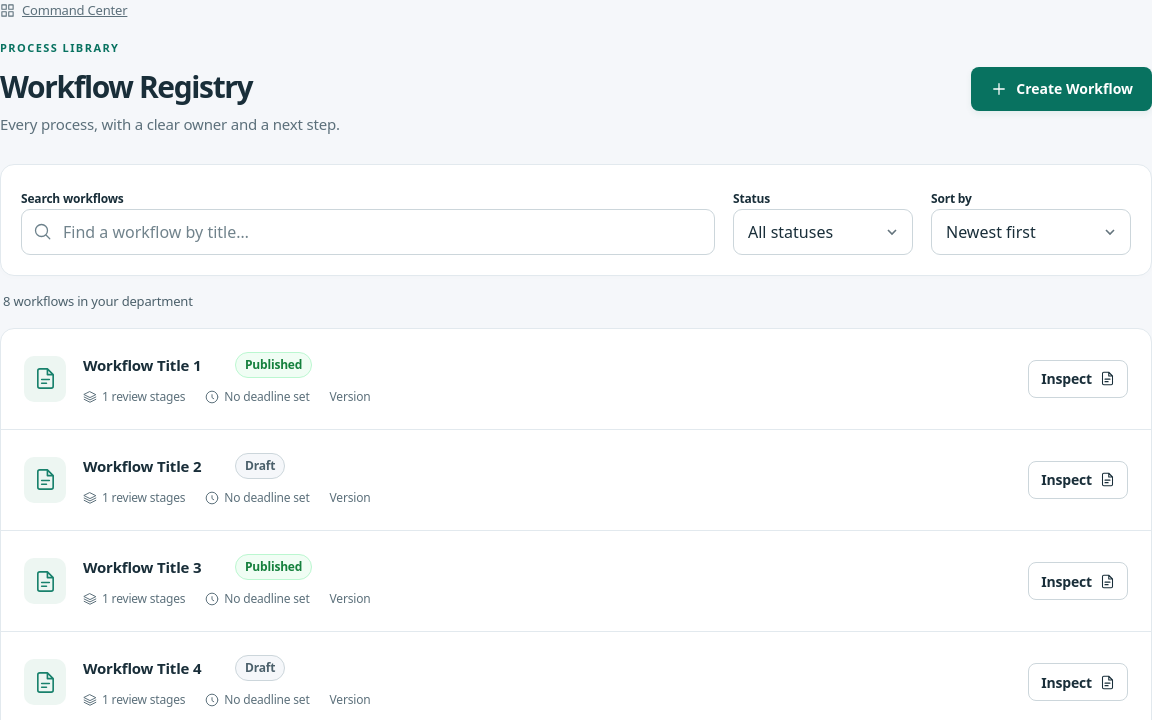
P-004 Workflow Registry Page and Elements (T-A11Y-P004, EL-016..EL-023) › filters workflows when typing in search input (EL-016)
Type "Title 2" into the search field with test id "EL-016" at (368, 232), box [21,209,715,255]
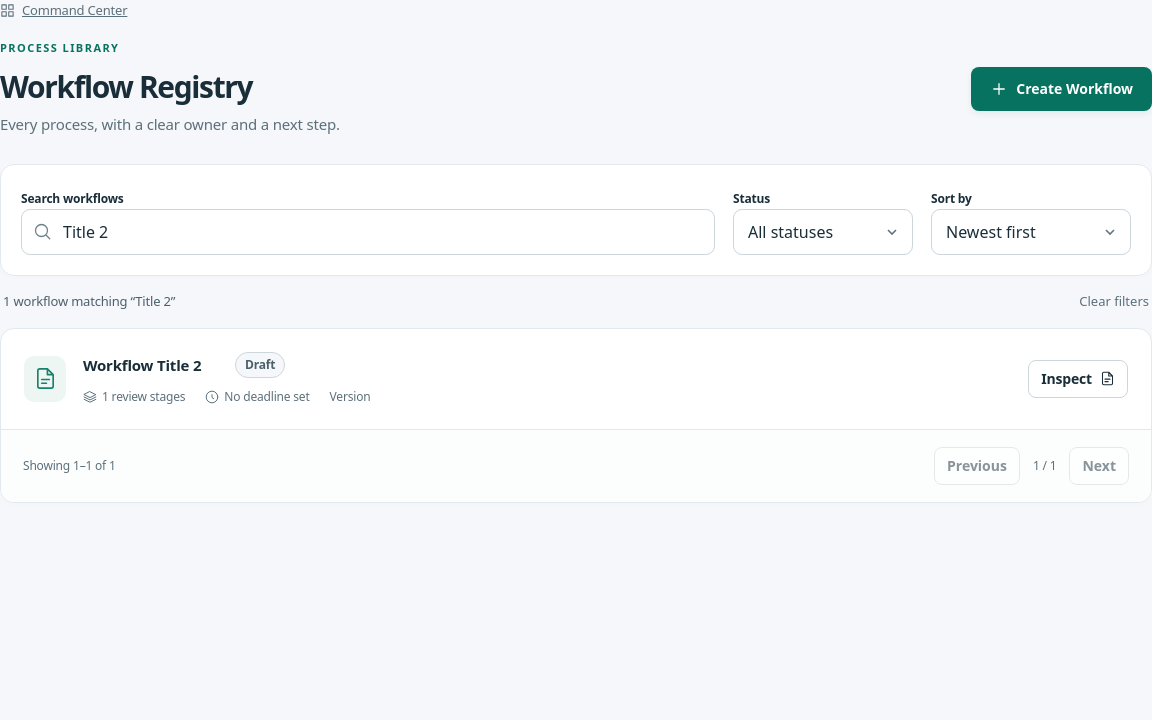
Expected: the link "Workflow Title 2" is shown, [83,354,201,374]
Expected: the link "Workflow Title 1" is gone
